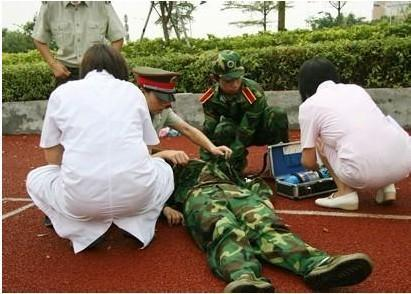Fall-Detected: (151, 132, 385, 286)
